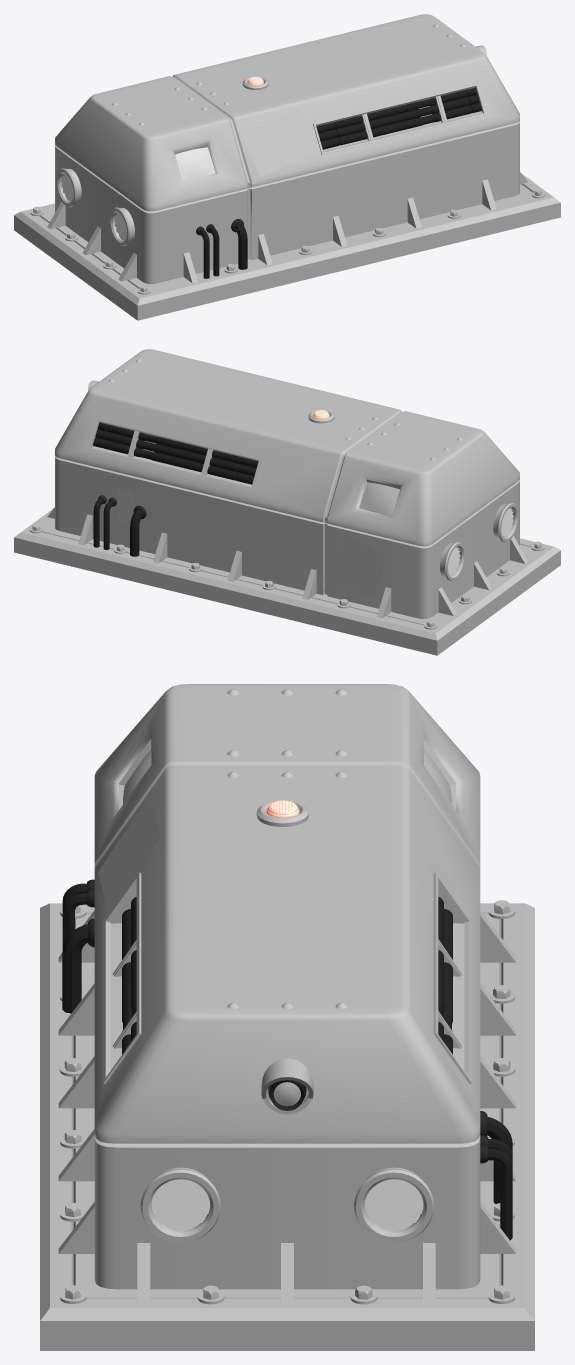
The model's file is KB3D_CPP_PropCrioChamber_A.fbx.
3 views of the same model, one above another, from view 1: azimuth 30°, elevation 25°; view 2: azimuth 150°, elevation 25°; view 3: azimuth 270°, elevation 25° (orthographic). The views are drawn at different scales.
Parts seen in each view (by area): view 1: KB3D_CPP_PropCrioChamber_A_CrioChamber; view 2: KB3D_CPP_PropCrioChamber_A_CrioChamber; view 3: KB3D_CPP_PropCrioChamber_A_CrioChamber.
Part boxes in pixels (box(x1,y1,x2,y2)): KB3D_CPP_PropCrioChamber_A_CrioChamber: box(14, 14, 560, 320); KB3D_CPP_PropCrioChamber_A_CrioChamber: box(14, 349, 560, 655); KB3D_CPP_PropCrioChamber_A_CrioChamber: box(40, 684, 534, 1350).
Size of the model in its own units: 256 by 88.72 by 130.
